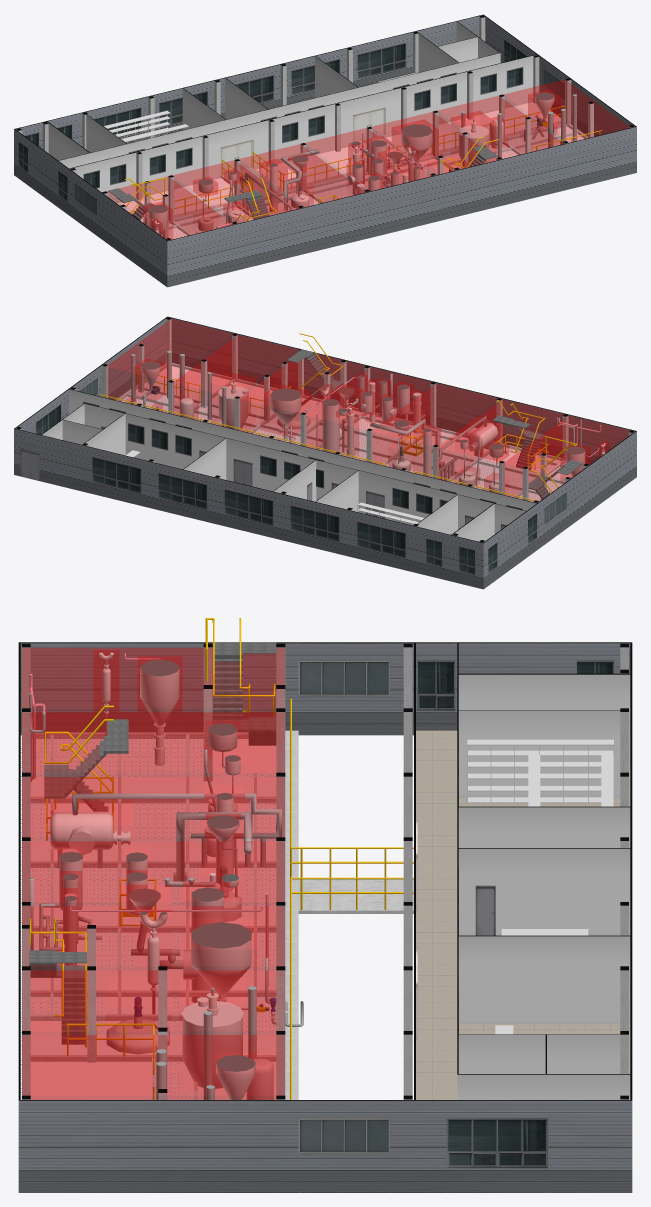
File: NST_2F.glb
3 renders of one model, top to bottom at view 1: azimuth 30°, elevation 25°; view 2: azimuth 150°, elevation 25°; view 3: azimuth 270°, elevation 25°, orthographic. The views are drawn at different scales.
Parts seen in each view (by area): view 1: Line006, Line007, Box033, N-2F (1), 2F사무실, 2F-007, 2F-002, 2F-004, 2F-006, 2F-003, 2F-001, 2F-005 (+24 smaller); view 2: Line006, Line007, N-2F (1), 2F-007, 2F-002, 2F-006, 2F-003, 2F-004, 2F-005, Box033, 2F-001, 2F사무실 (+28 smaller); view 3: Line006, Line007, 2F-006, 2F-001, 2F-003, 2F-002, 2F-004, Box033, 2F-005, Line005, 2F-007, N-2F (1) (+36 smaller).
Part boxes in pixels (<box>): Line006: <box>14,14,636,287</box>; Line007: <box>47,21,536,202</box>; Box033: <box>16,15,634,240</box>; N-2F (1): <box>18,35,564,216</box>; 2F사무실: <box>83,67,523,188</box>; 2F-007: <box>503,80,629,153</box>; 2F-002: <box>173,160,299,233</box>; 2F-004: <box>305,128,431,201</box>; 2F-006: <box>437,96,563,158</box>; 2F-003: <box>239,144,365,210</box>; 2F-001: <box>107,176,232,239</box>; 2F-005: <box>371,112,497,177</box>; Line006: <box>14,316,636,589</box>; Line007: <box>41,389,536,541</box>; N-2F (1): <box>20,377,566,575</box>; 2F-007: <box>106,319,232,412</box>; 2F-002: <box>437,399,563,495</box>; 2F-006: <box>172,335,298,431</box>; 2F-003: <box>371,383,497,476</box>; 2F-004: <box>305,367,431,463</box>; 2F-005: <box>238,353,365,447</box>; Box033: <box>16,317,634,542</box>; 2F-001: <box>503,415,629,501</box>; 2F사무실: <box>83,401,522,529</box>; Line006: <box>18,642,632,1192</box>; Line007: <box>414,643,630,1099</box>; 2F-006: <box>22,970,284,1099</box>; 2F-001: <box>22,648,284,776</box>; 2F-003: <box>22,777,284,905</box>; 2F-002: <box>22,712,284,840</box>; 2F-004: <box>22,841,284,969</box>; Box033: <box>22,643,628,1099</box>; 2F-005: <box>22,906,284,1034</box>; Line005: <box>416,730,630,1099</box>; 2F-007: <box>22,1035,284,1099</box>; N-2F (1): <box>298,660,614,1168</box>.
Size of the model in its own units: 42.6 by 6.37 by 24.1.
Materials: 28 (18 with a texture image).
